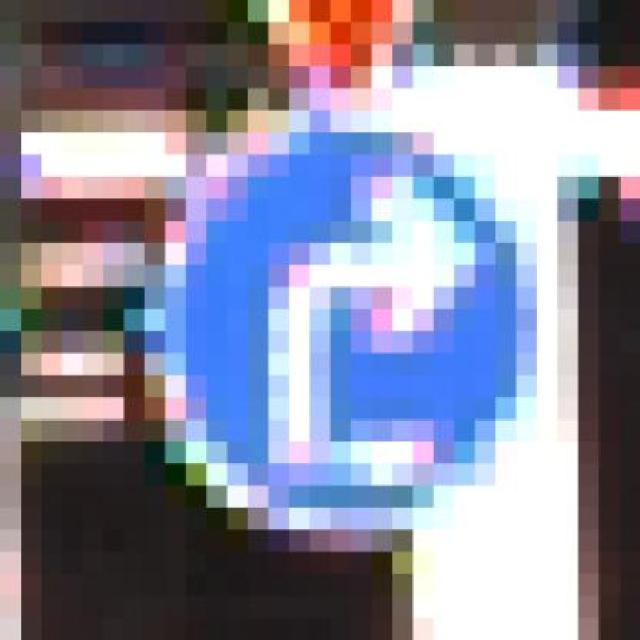Turn right ahead: (124, 110, 578, 552)
